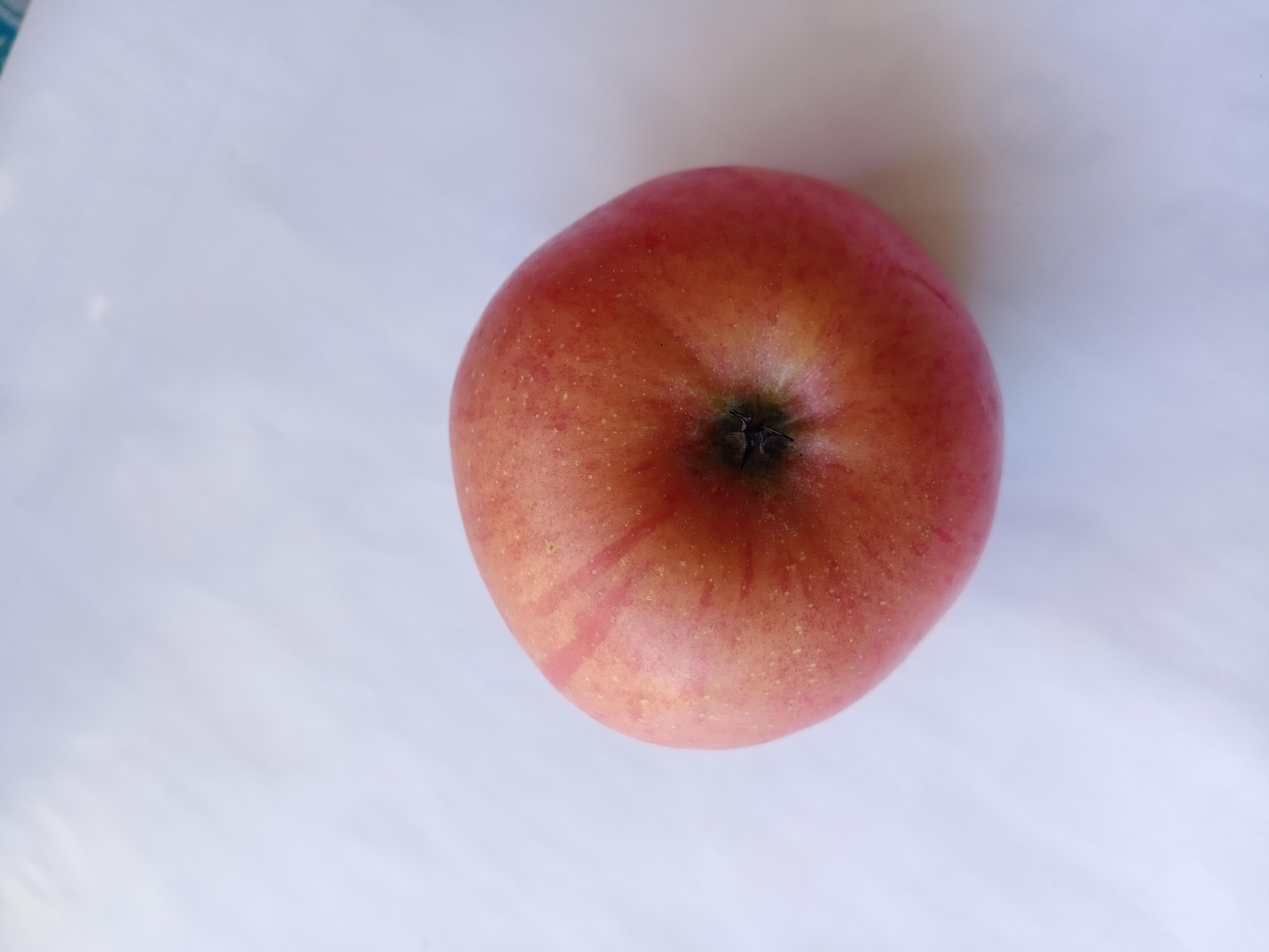Apple Ripe: (438, 146, 1002, 774)
